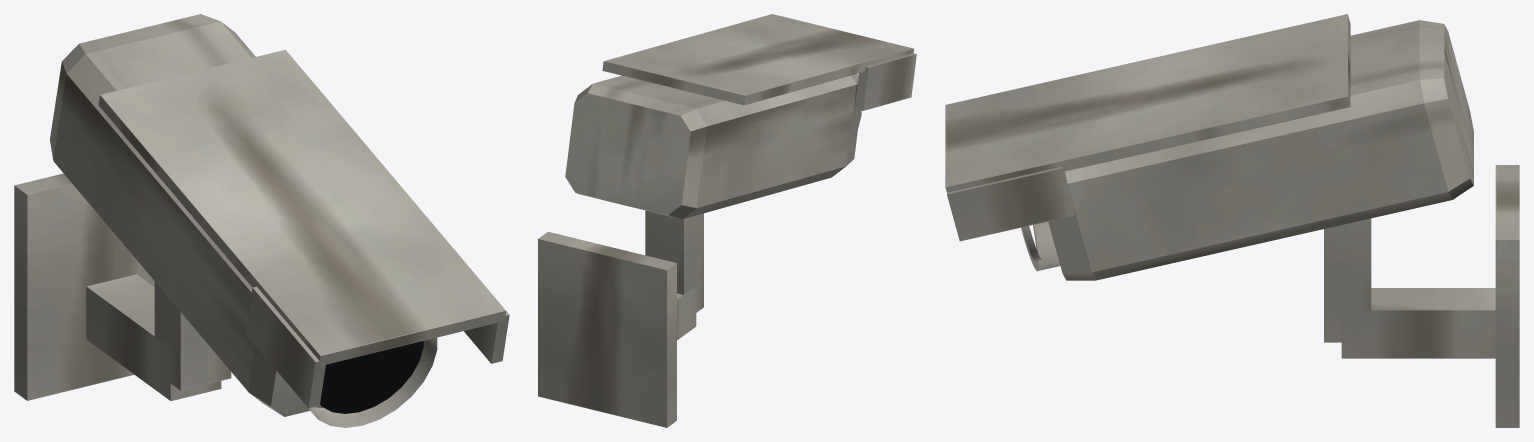
Rendered from telecamera.glb.
3 views of the same model, side by side, from view 1: azimuth 30°, elevation 25°; view 2: azimuth 150°, elevation 25°; view 3: azimuth 270°, elevation 25° (orthographic). The views are drawn at different scales.
Visible parts, largest first — view 1: housing, lens; view 2: housing; view 3: housing.
Part boxes in pixels (<box>): housing: <box>14,14,509,427</box>; lens: <box>320,341,423,413</box>; housing: <box>538,14,916,427</box>; housing: <box>945,14,1519,427</box>.
Bounding box in the file's own units: 0.69 × 1.27 × 1.94.
Materials: 2 (2 with a texture image).
